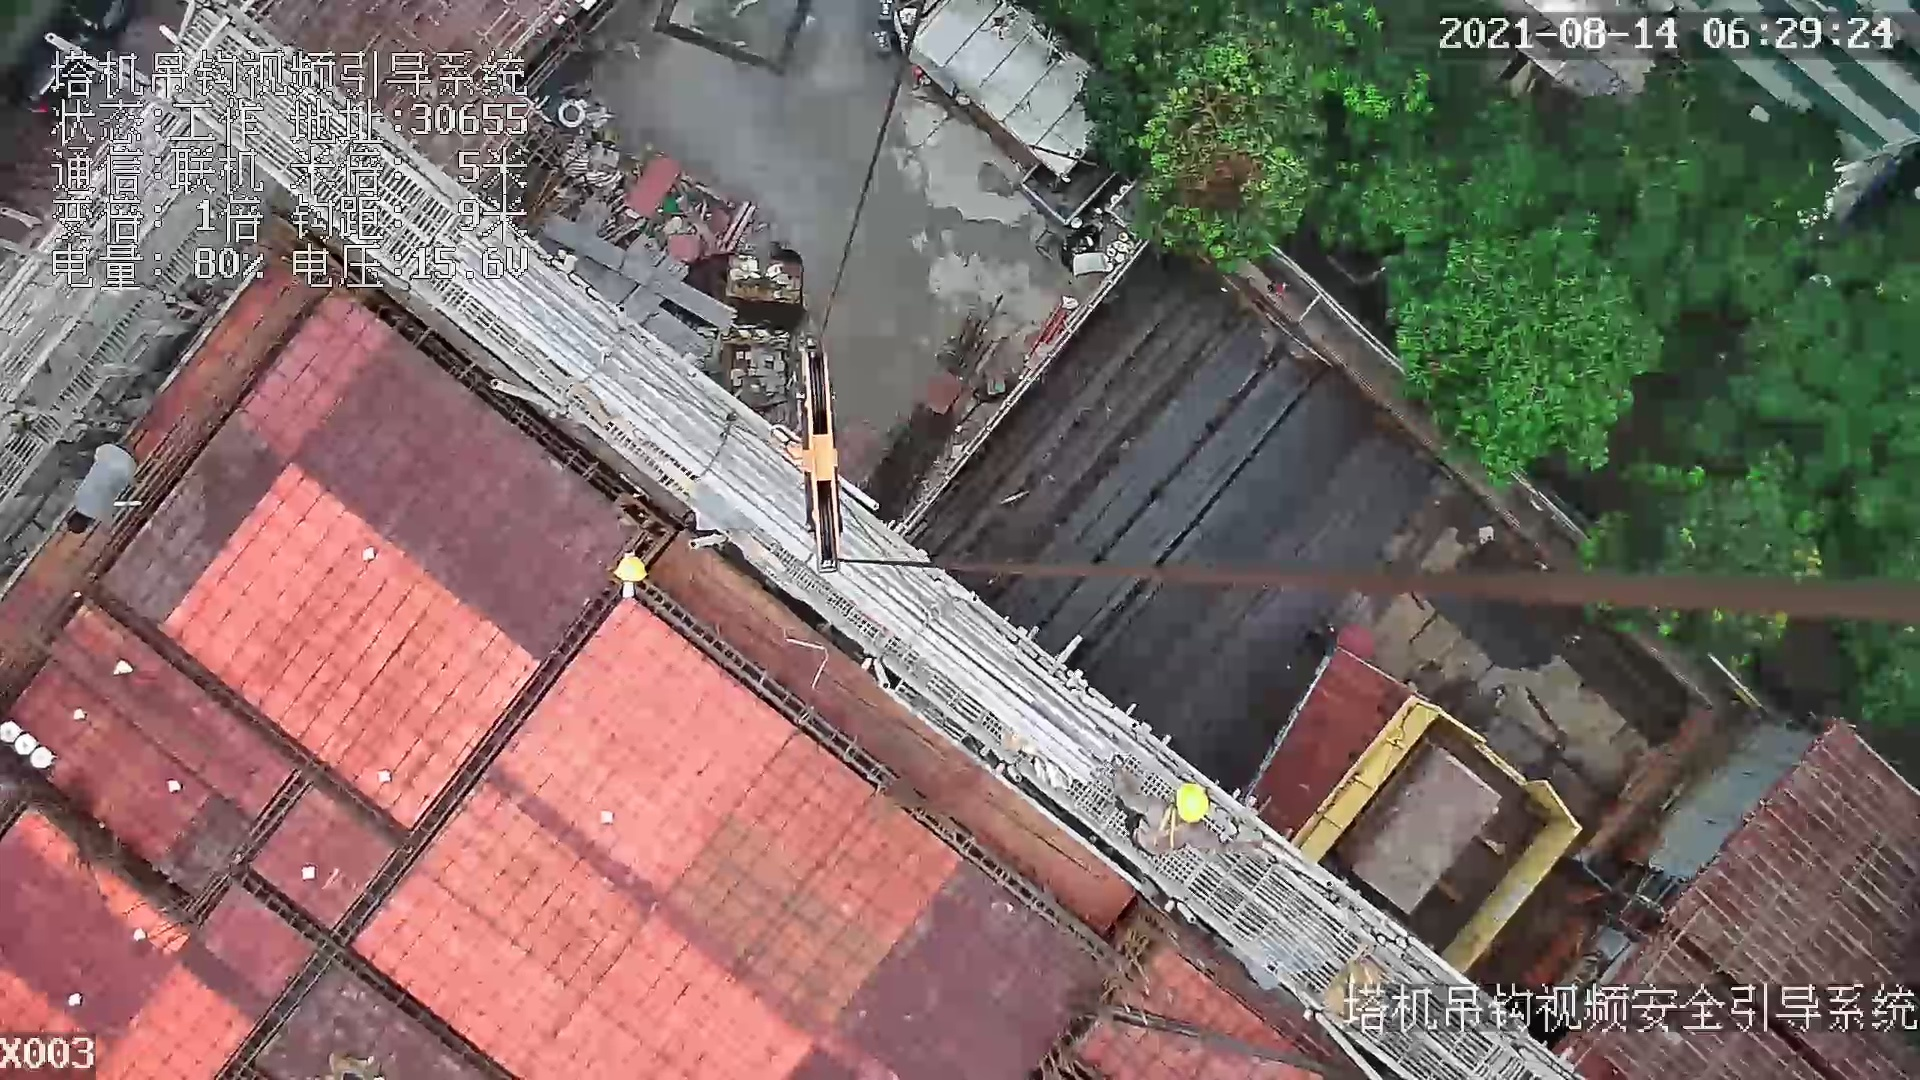helmet: (1177, 786, 1210, 826), (617, 553, 646, 581)
hook: (782, 332, 845, 576)
person: (1112, 762, 1268, 871)
rebar: (929, 287, 1444, 751)
